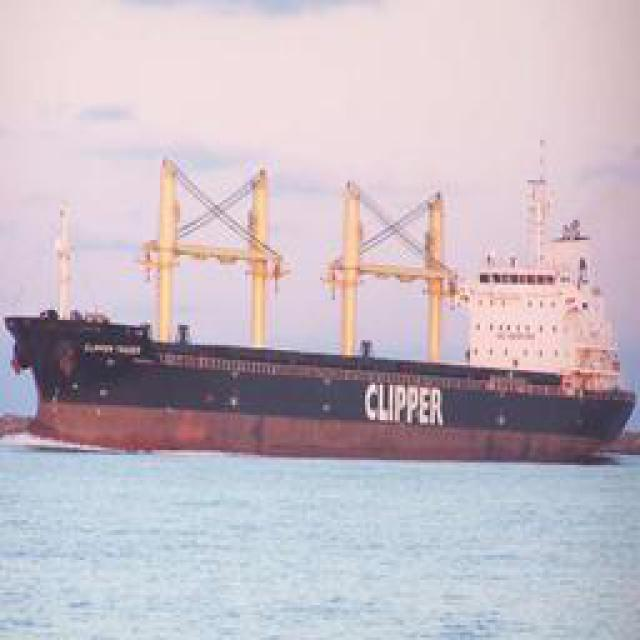Ship: (7, 149, 635, 462)
